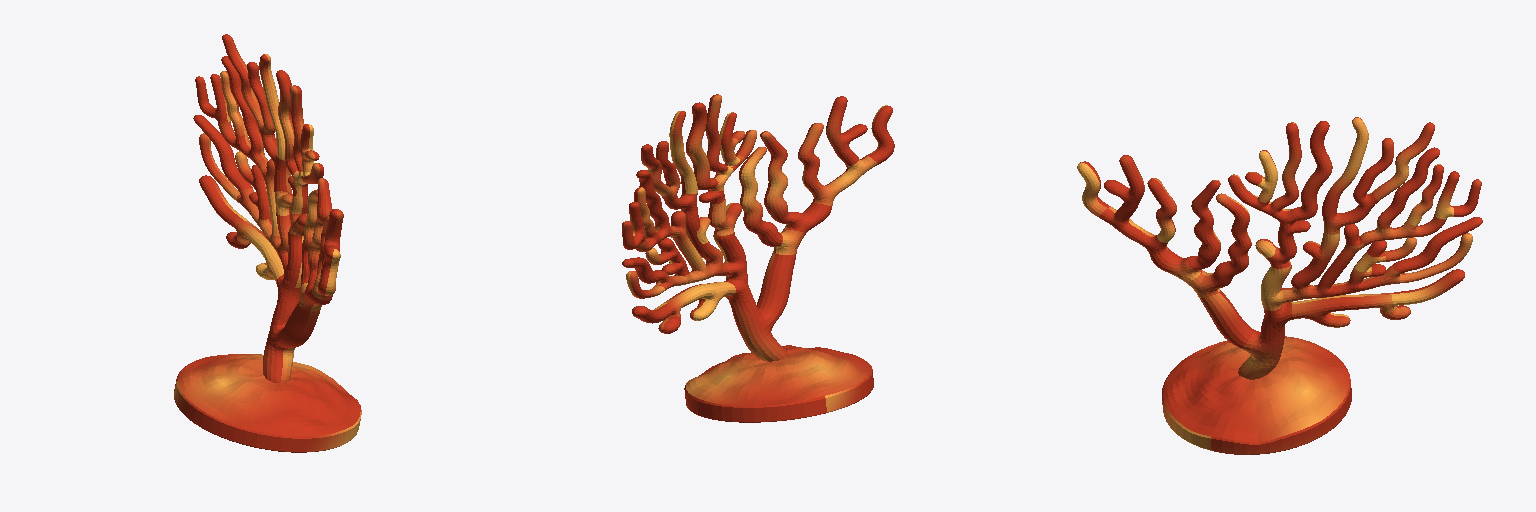
The picture shows the model from 3 angles: view 1: azimuth 30°, elevation 25°; view 2: azimuth 150°, elevation 25°; view 3: azimuth 270°, elevation 25°; orthographic projection.
Visible parts, largest first — view 1: 21487_Gorgonian_Soft_Coral_v1; view 2: 21487_Gorgonian_Soft_Coral_v1; view 3: 21487_Gorgonian_Soft_Coral_v1.
Part boxes in pixels (bbox=[...]): 21487_Gorgonian_Soft_Coral_v1: bbox=[174, 34, 361, 452]; 21487_Gorgonian_Soft_Coral_v1: bbox=[622, 94, 894, 422]; 21487_Gorgonian_Soft_Coral_v1: bbox=[1077, 117, 1482, 454].
Size of the model in its own units: 1.34 by 2.54 by 2.89.
Materials: 1 (1 with a texture image).